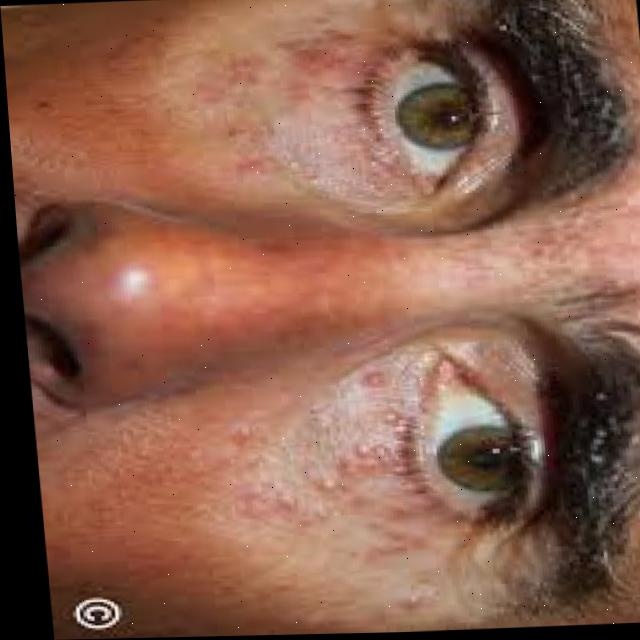Rosacea: (197, 362, 412, 552), (154, 22, 369, 190)
